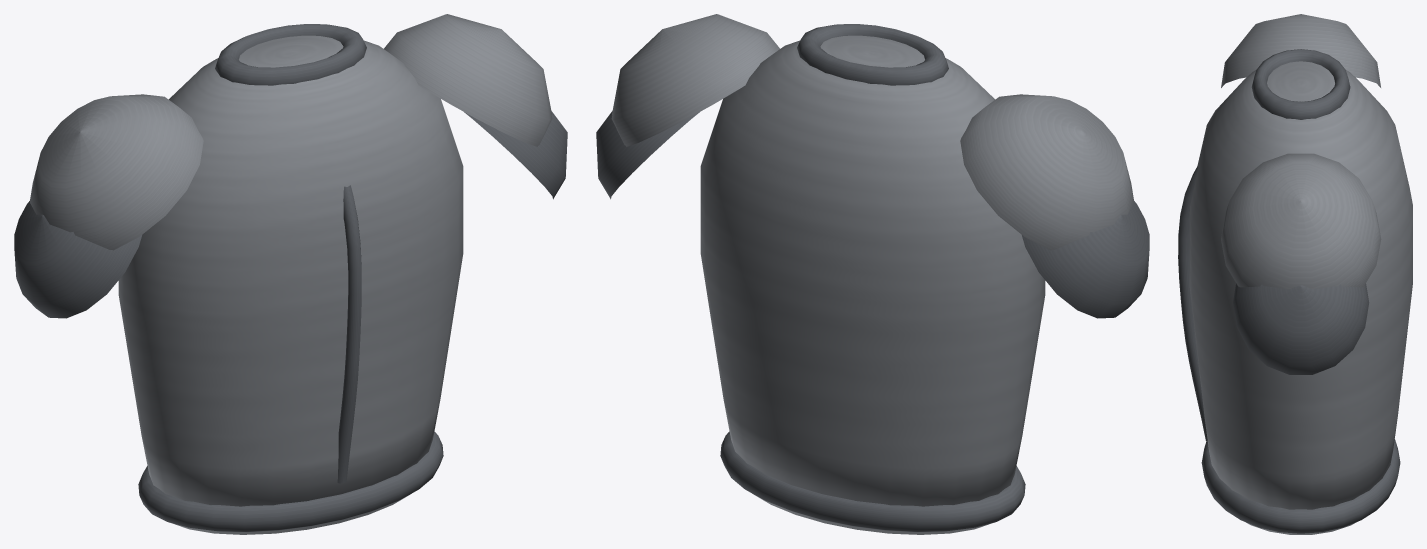
Rendered from platebody.glb.
3 renders of one model, left to right at view 1: azimuth 30°, elevation 25°; view 2: azimuth 150°, elevation 25°; view 3: azimuth 270°, elevation 25°, orthographic. The views are drawn at different scales.
Parts seen in each view (by area): view 1: torso; view 2: torso; view 3: torso.
Part boxes in pixels (left/top/right/bottom): torso: left=14, top=14, right=567, bottom=534; torso: left=596, top=14, right=1149, bottom=534; torso: left=1178, top=14, right=1412, bottom=534.
Size of the model in its own units: 0.6352 by 0.499 by 0.2633.
Materials: 3 (3 with a texture image).
